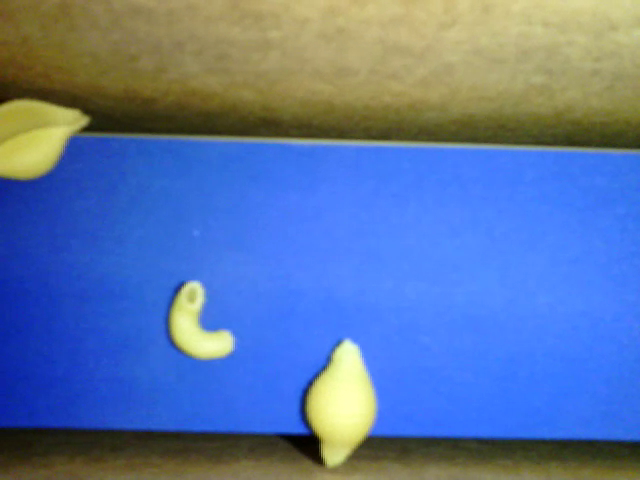elbow: (168, 279, 235, 361)
shell: (304, 338, 376, 468), (1, 99, 90, 178)
